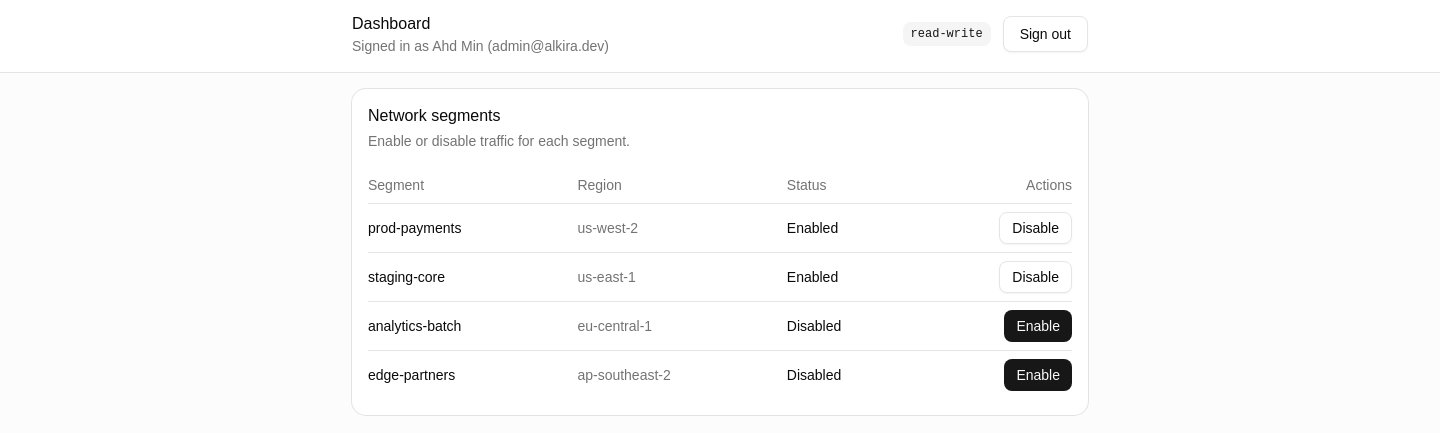
Test case: a read/write user can flip a segment
Expected: the text "Enabled" in the row of "prod-payments" is shown, x1=787 y1=220 x2=838 y2=236
Click the button "Disable" in the row of "prod-payments". click: x=1036, y=228
box: x1=999 y1=212 x2=1072 y2=244
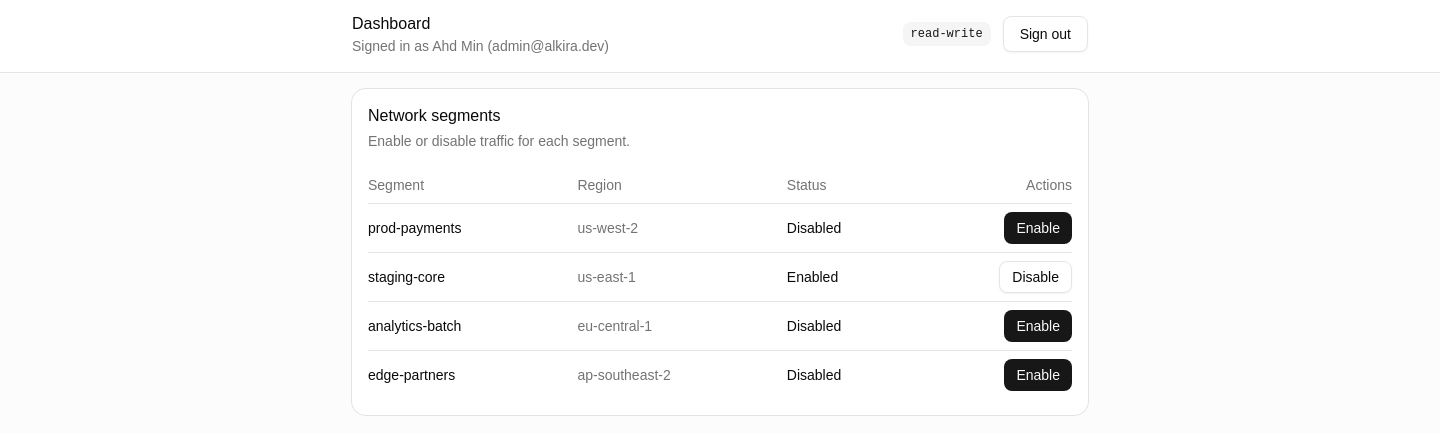
Expected: the text "Disabled" in the row of "prod-payments" is shown, x1=787 y1=220 x2=841 y2=236
